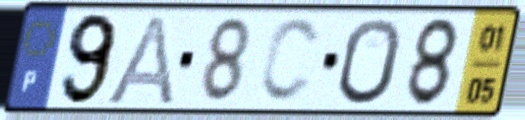8: (402, 14, 462, 110), (197, 15, 255, 106)
9: (57, 10, 122, 107)
A: (100, 11, 177, 107)
C: (256, 15, 324, 107)
O: (335, 15, 405, 108)
